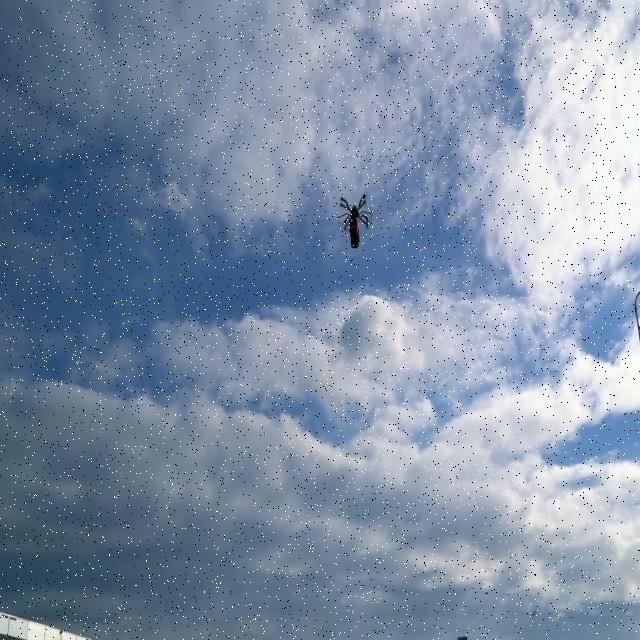UAV: (337, 194, 372, 232)
